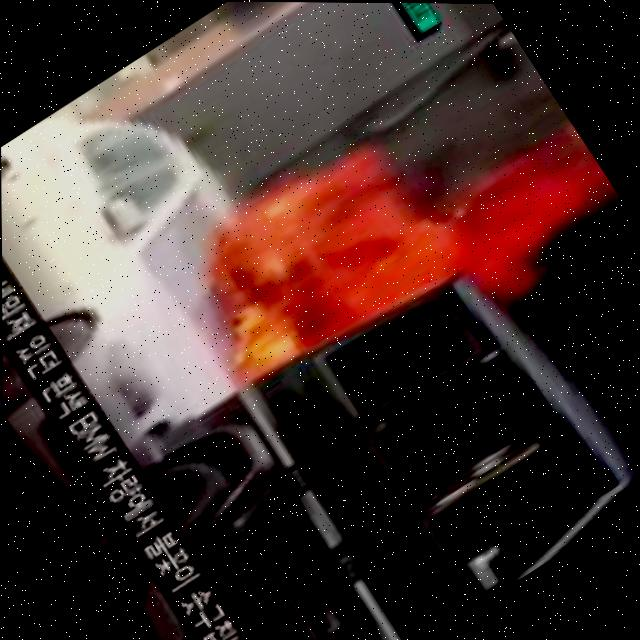Fire: (189, 83, 578, 430)
